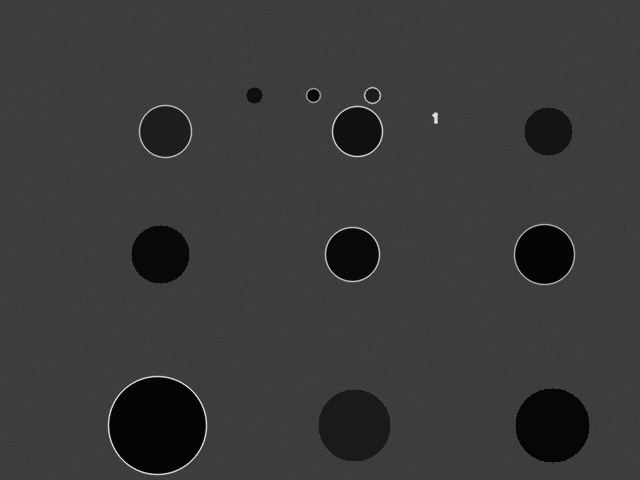hole: (108, 376, 206, 474), (515, 388, 589, 462), (318, 389, 390, 461), (514, 224, 574, 284), (131, 225, 189, 283), (325, 227, 379, 281), (139, 105, 191, 157), (332, 106, 382, 156), (524, 107, 572, 155), (246, 87, 262, 103), (364, 87, 380, 103), (306, 88, 320, 102)
